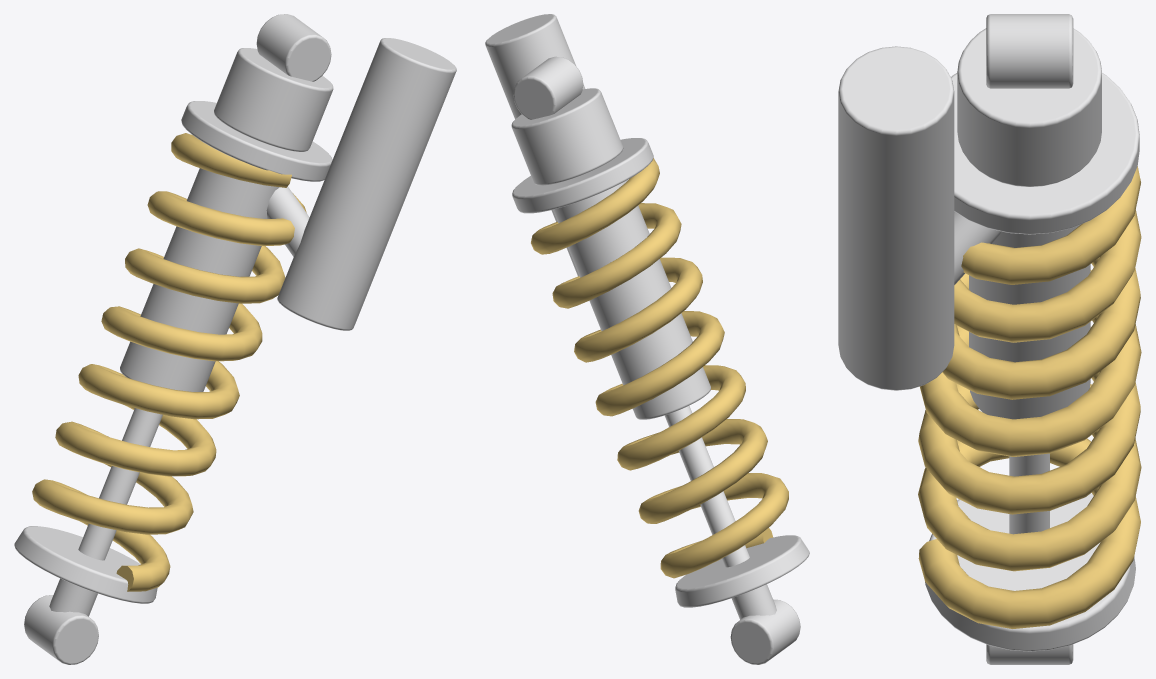
The model's file is bike_electric__rear_shock.glb.
3 views of the same model, side by side, from view 1: azimuth 30°, elevation 25°; view 2: azimuth 150°, elevation 25°; view 3: azimuth 270°, elevation 25° (orthographic). The views are drawn at different scales.
Visible parts, largest first — view 1: chassis__rear_shock__body, chassis__rear_shock__spring, chassis__rear_shock__shaft; view 2: chassis__rear_shock__body, chassis__rear_shock__spring, chassis__rear_shock__shaft; view 3: chassis__rear_shock__body, chassis__rear_shock__spring, chassis__rear_shock__shaft.
Part boxes in pixels (x1=…): chassis__rear_shock__body: x1=14, y1=14, x2=456, y2=664; chassis__rear_shock__spring: x1=32, y1=133, x2=306, y2=591; chassis__rear_shock__shaft: x1=78, y1=408, x2=162, y2=560; chassis__rear_shock__body: x1=485, y1=14, x2=809, y2=664; chassis__rear_shock__spring: x1=531, y1=158, x2=788, y2=578; chassis__rear_shock__shaft: x1=664, y1=406, x2=749, y2=567; chassis__rear_shock__body: x1=838, y1=14, x2=1139, y2=664; chassis__rear_shock__spring: x1=918, y1=166, x2=1141, y2=628; chassis__rear_shock__shaft: x1=1009, y1=453, x2=1049, y2=534.
Bounding box in the file's own units: 21.13 × 30.68 × 10.46.
